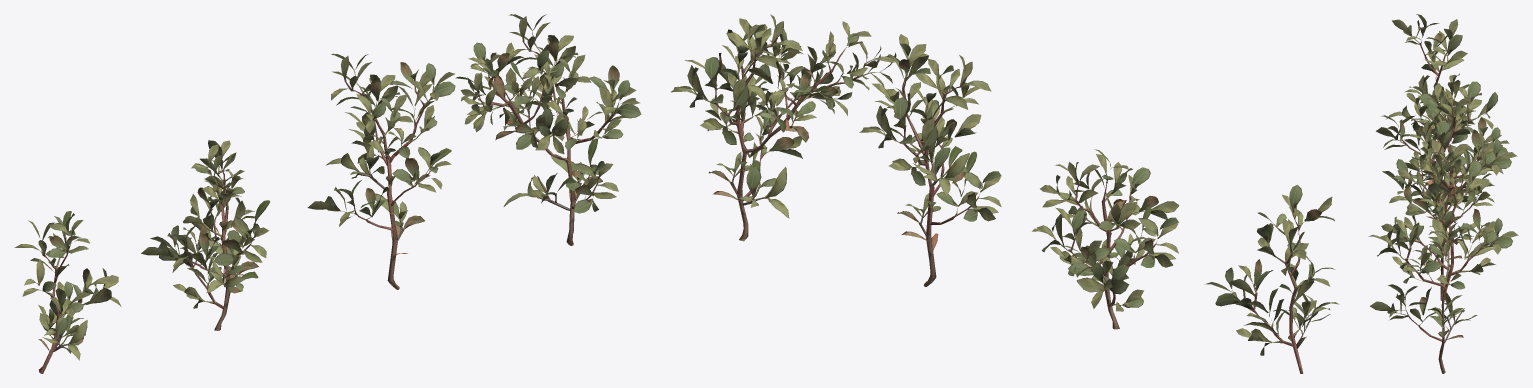
The model's file is shrub-04.glb.
3 views of the same model, side by side, from view 1: azimuth 30°, elevation 25°; view 2: azimuth 150°, elevation 25°; view 3: azimuth 270°, elevation 25° (orthographic). The views are drawn at different scales.
Parts seen in each view (by area): view 1: shrub_04; view 2: shrub_04; view 3: shrub_04.
Boxes of the visible parts, <box> form: shrub_04: <box>14,14,641,373</box>; shrub_04: <box>671,14,1339,373</box>; shrub_04: <box>1368,14,1518,373</box>.
Size of the model in its own units: 0.5837 by 0.2192 by 0.1461.
Materials: 1 (1 with a texture image).
